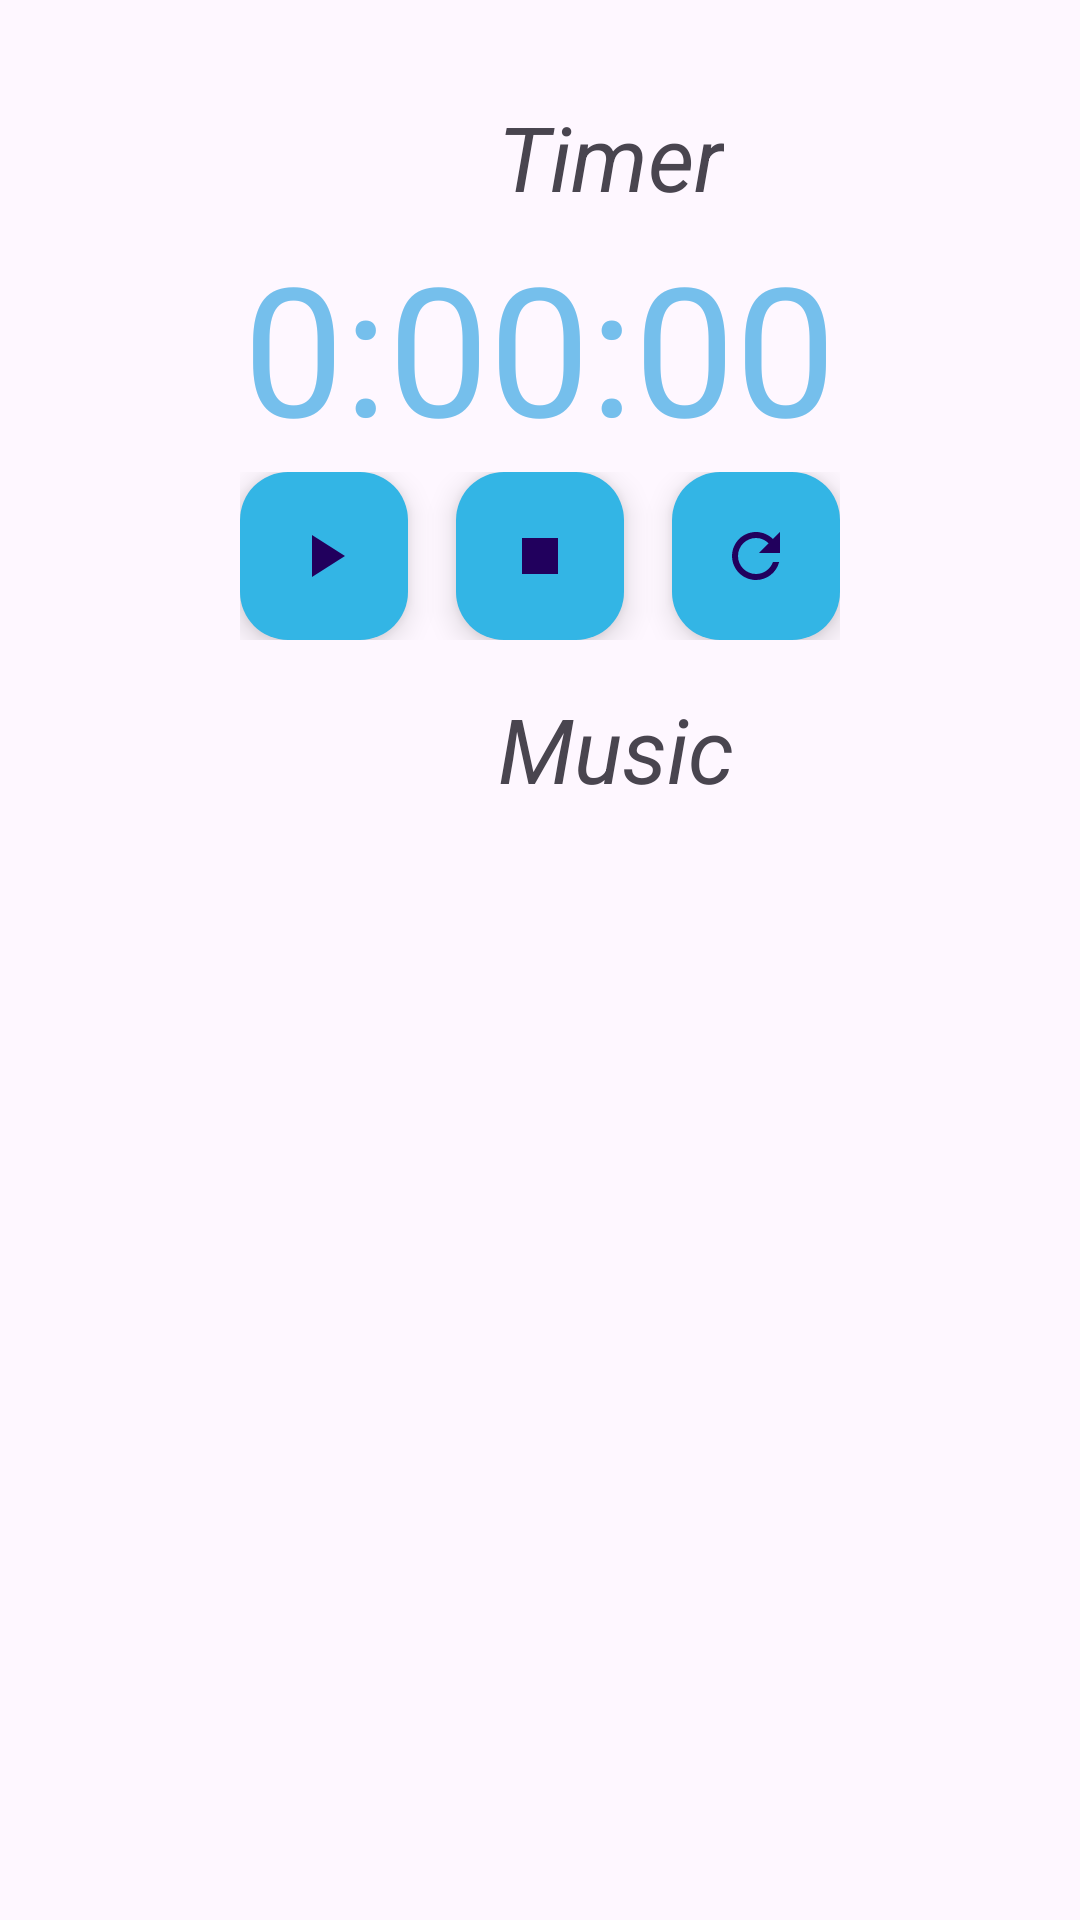

Where icons sit on this 1080×1920 app screen, as (x1, y1, x2, y2):
play arrow: (240, 472, 408, 640)
refresh: (672, 472, 840, 640)
stop: (456, 472, 624, 640)
